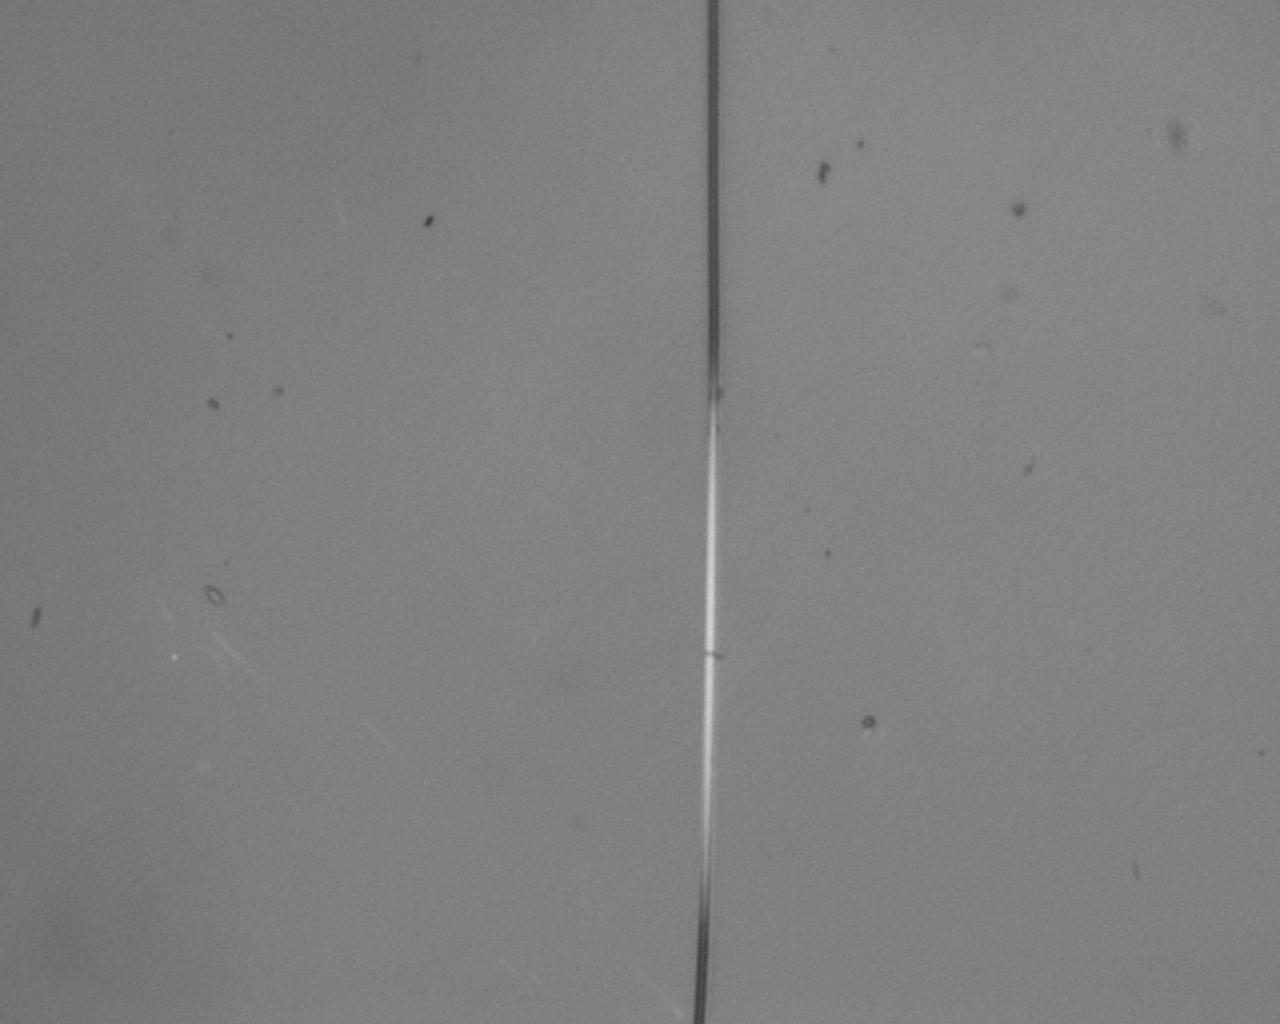fiber: (694, 0, 721, 1024)
